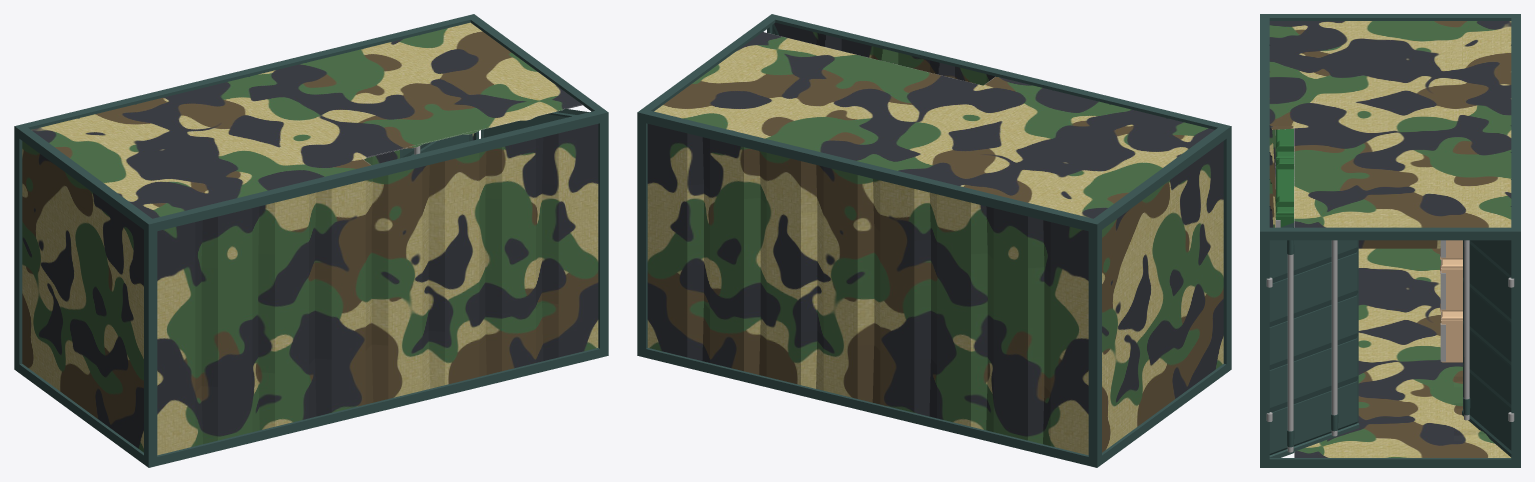
Rendered from SupplyDepot.fbx.
The picture shows the model from 3 angles, left to right: view 1: azimuth 30°, elevation 25°; view 2: azimuth 150°, elevation 25°; view 3: azimuth 270°, elevation 25°; orthographic projection. The views are drawn at different scales.
Parts seen in each view (by area): view 1: Depot_LOD0; view 2: Depot_LOD0; view 3: Depot_LOD0.
Boxes of the visible parts, x1=… form: Depot_LOD0: x1=14, y1=14, x2=608, y2=467; Depot_LOD0: x1=637, y1=14, x2=1231, y2=467; Depot_LOD0: x1=1260, y1=14, x2=1520, y2=467.
Size of what is drawn, in the model's own units: 815 by 410 by 410.
